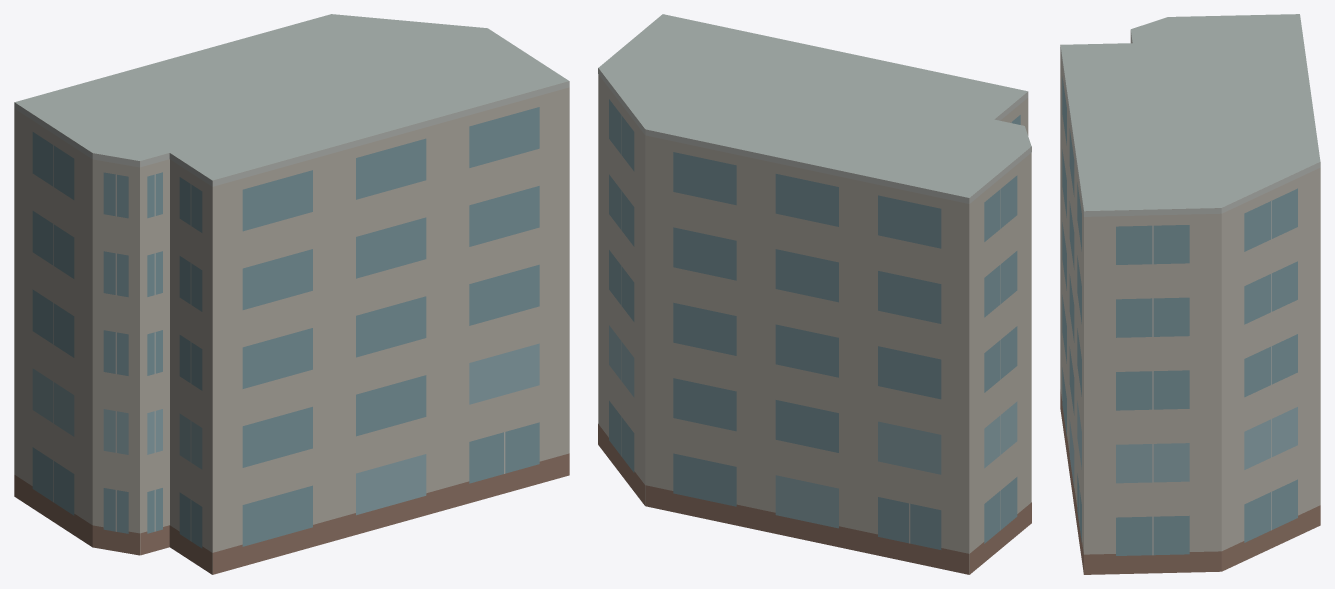
File: survey-upis-32630458.glb
3 renders of one model, left to right at view 1: azimuth 30°, elevation 25°; view 2: azimuth 150°, elevation 25°; view 3: azimuth 270°, elevation 25°, orthographic. The views are drawn at different scales.
Parts seen in each view (by area): view 1: survey-upis-32630458.tmp; view 2: survey-upis-32630458.tmp; view 3: survey-upis-32630458.tmp.
Part boxes in pixels (x1,y1,x2,y2): survey-upis-32630458.tmp: [14, 14, 569, 574]; survey-upis-32630458.tmp: [598, 14, 1031, 574]; survey-upis-32630458.tmp: [1060, 14, 1320, 574].
Bounding box in the file's own units: 17.74 × 15.25 × 9.89.
